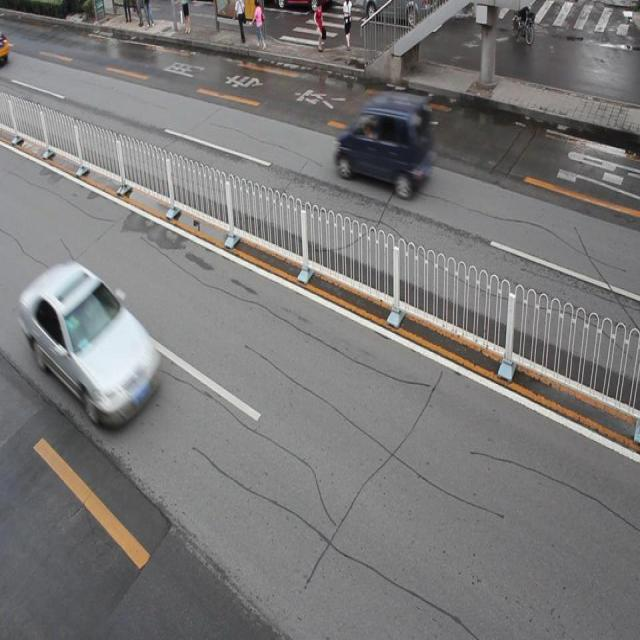car: (22, 264, 162, 424), (338, 90, 432, 192)
